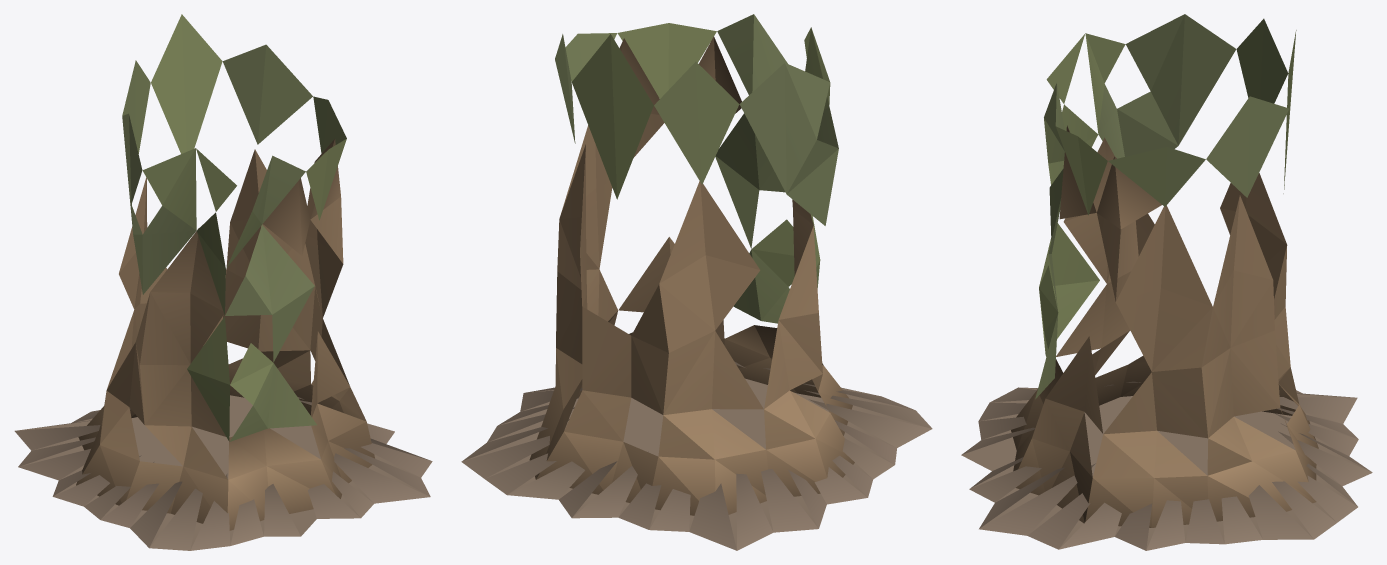
The model's file is stump.lod.glb.
3 views of the same model, side by side, from view 1: azimuth 30°, elevation 25°; view 2: azimuth 150°, elevation 25°; view 3: azimuth 270°, elevation 25° (orthographic). The views are drawn at different scales.
Visible parts, largest first — view 1: stump.001; view 2: stump.001; view 3: stump.001.
Boxes of the visible parts, left/top/right/bottom form: stump.001: left=14, top=14, right=432, bottom=550; stump.001: left=461, top=14, right=932, bottom=550; stump.001: left=961, top=14, right=1372, bottom=550.
Size of the model in its own units: 1.6 by 1.9 by 1.6.
